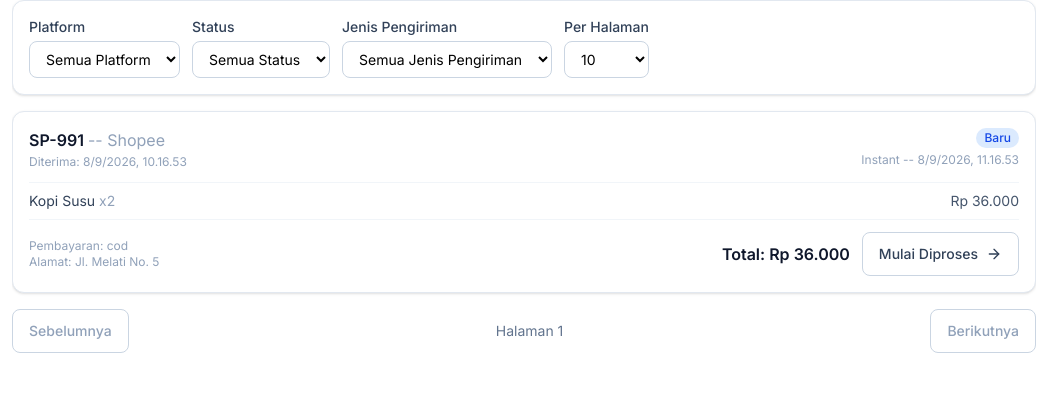
it: OrdersPage › Update Status gagal -- inline error, bukan window.alert (Task 6) › API gagal -- TIDAK window.alert, error tampil inline dekat tombol
The width and height of the screenshot is (1048, 394).
Click the button "Mulai Diproses": (940, 254) [862, 232, 1019, 276]
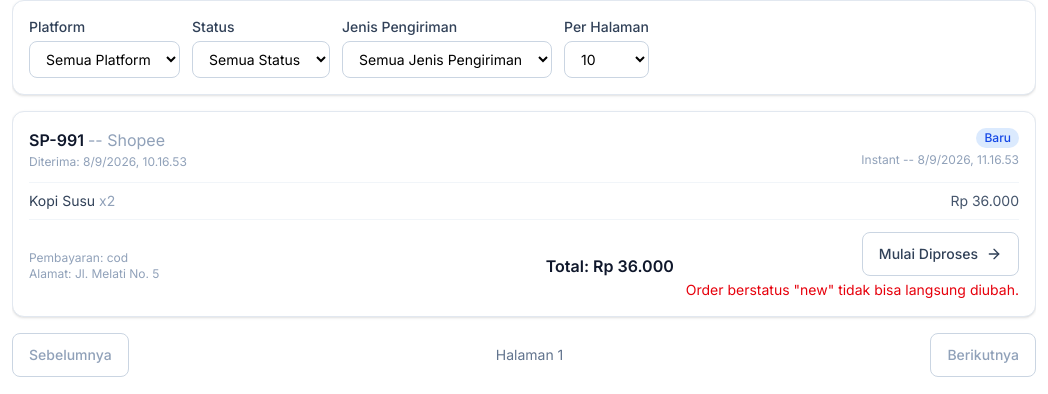
Expected: the text "Order berstatus \"new\" tidak bisa langsung diubah." is shown, [686, 280, 1019, 300]
